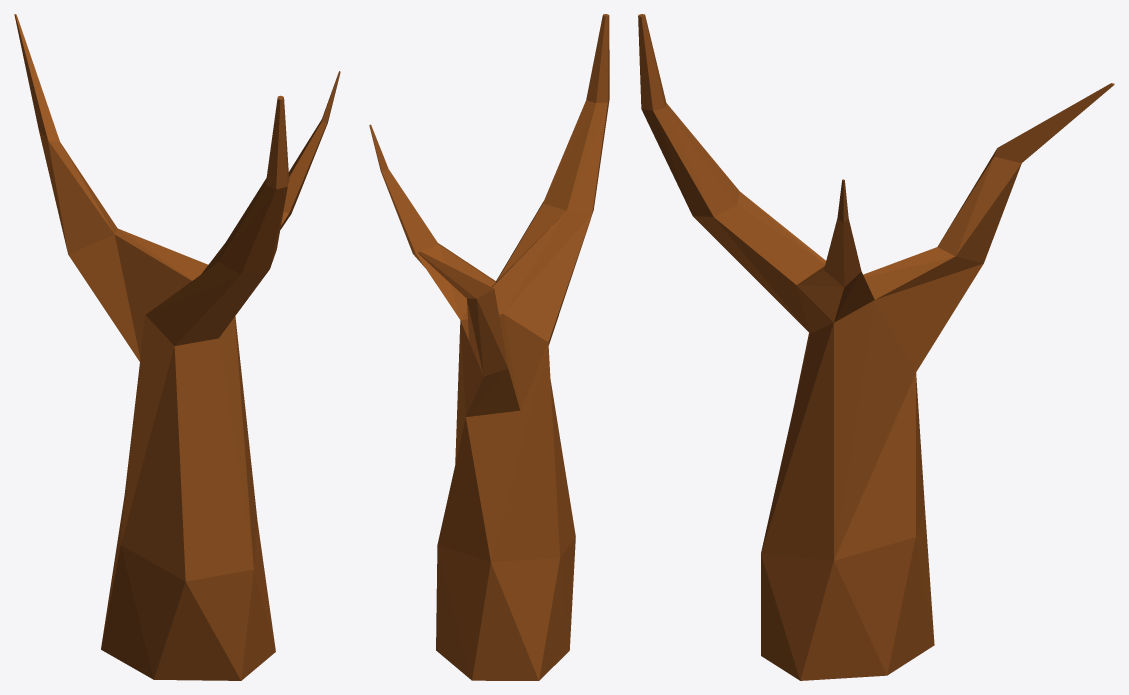
The model's file is Tree008.FBX.
The picture shows the model from 3 angles, left to right: view 1: azimuth 30°, elevation 25°; view 2: azimuth 150°, elevation 25°; view 3: azimuth 270°, elevation 25°; orthographic projection. The views are drawn at different scales.
Parts seen in each view (by area): view 1: Tree_007; view 2: Tree_007; view 3: Tree_007.
Boxes of the visible parts, left/top/right/bottom form: Tree_007: left=14, top=14, right=340, bottom=680; Tree_007: left=369, top=14, right=609, bottom=680; Tree_007: left=638, top=14, right=1114, bottom=680.
Bounding box in the file's own units: 0.8716 × 2.44 × 1.67.
